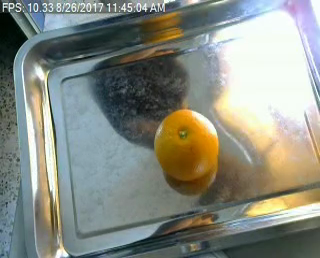Orange: (153, 109, 219, 180)
